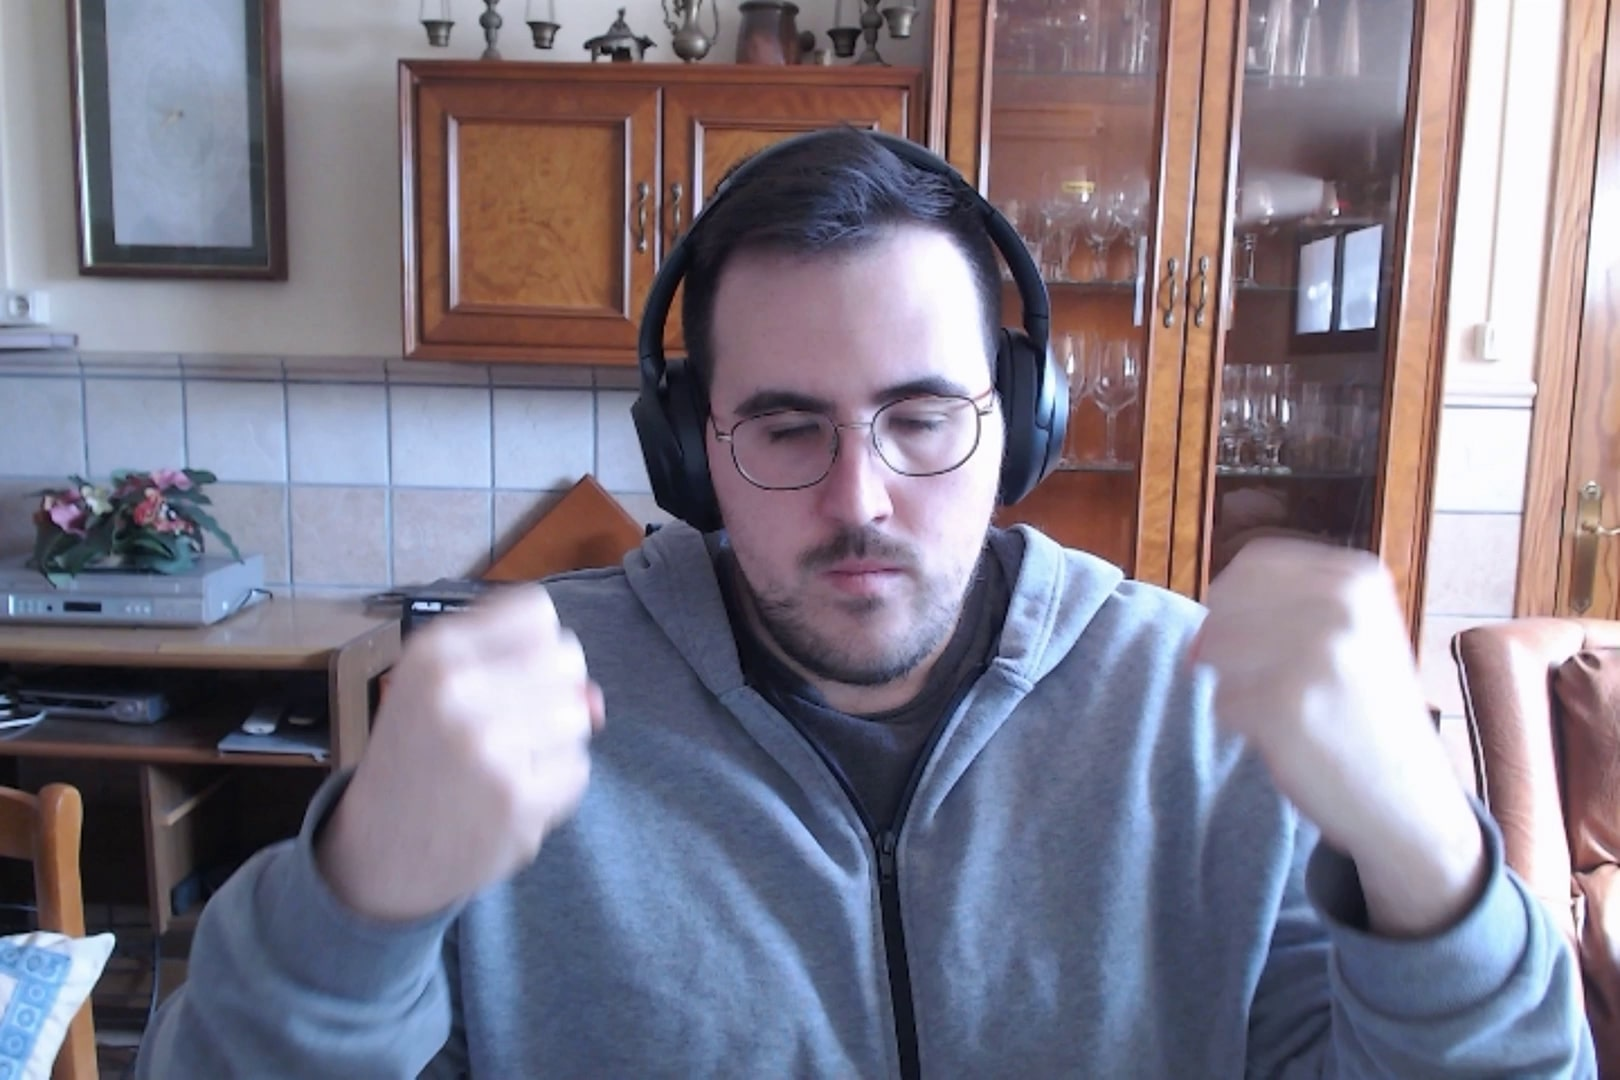hand: (1147, 504, 1503, 880), (339, 577, 640, 912)
